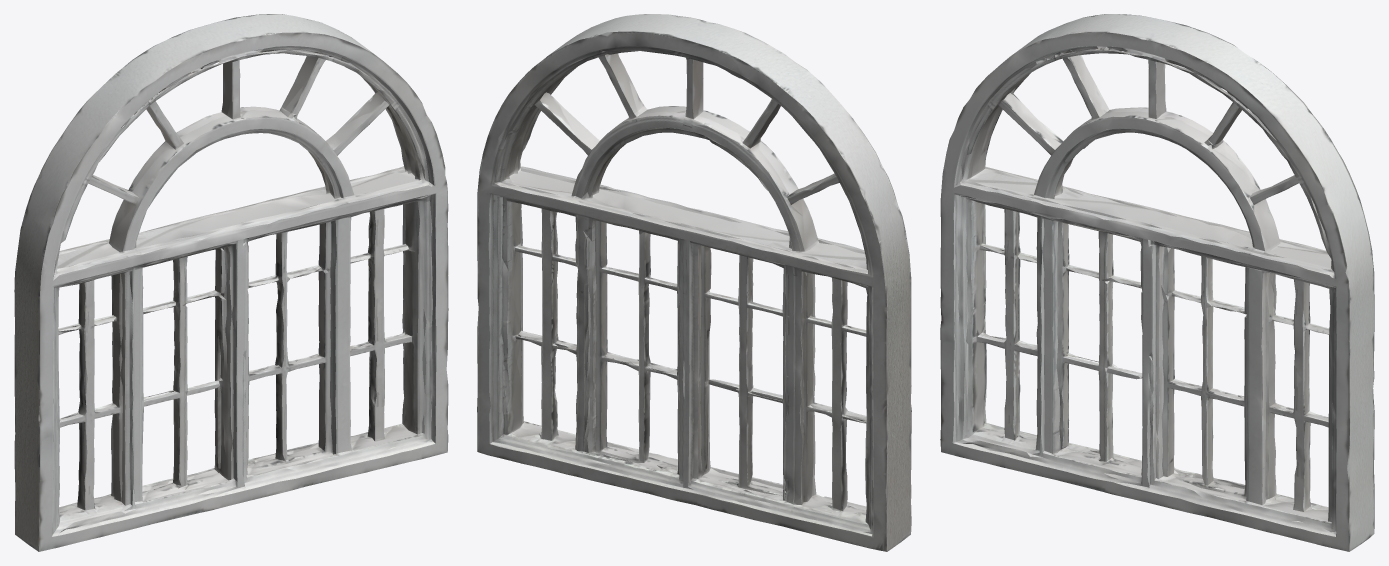
Rendered from window_v01_with VARCO.fbx.
3 views of the same model, side by side, from view 1: azimuth 30°, elevation 25°; view 2: azimuth 150°, elevation 25°; view 3: azimuth 330°, elevation 25° (orthographic).
Visible parts, largest first — view 1: Window; view 2: Window; view 3: Window.
Part boxes in pixels (box(x1,y1,x2,y2)): Window: box(14, 14, 448, 551); Window: box(477, 14, 911, 551); Window: box(940, 14, 1374, 551).
Size of the model in its own units: 139 by 150 by 15.57.
1 material, 1 textured.
